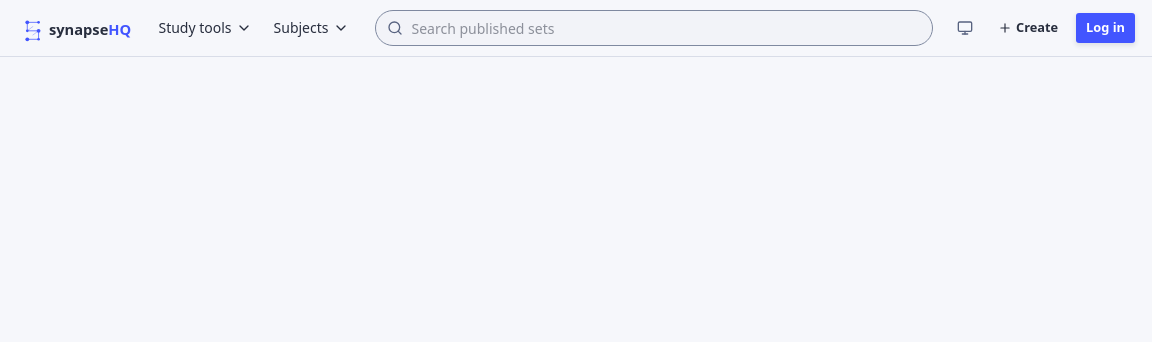
marketing header › opens Study tools and Subjects as disclosure menus and searches into Browse
This screenshot has width=1152, height=342.
Click the button "Study tools".
click(205, 28)  # box [148,10,262,46]
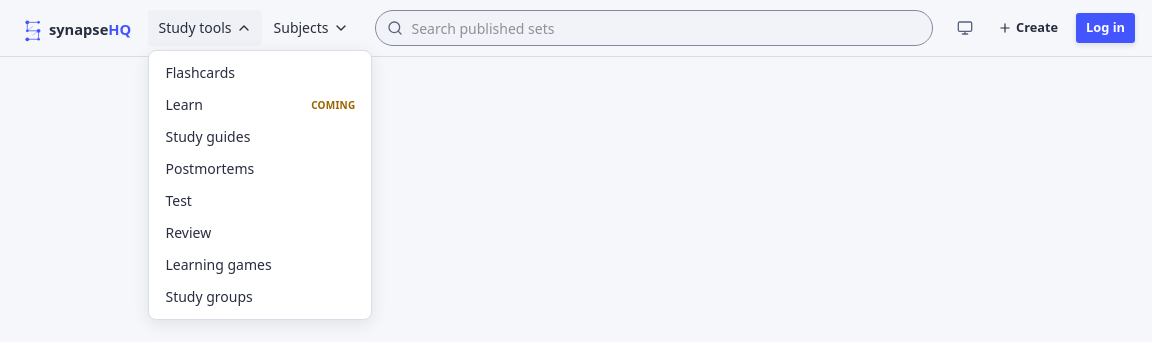
Now the button "Study tools" is expanded, box [148,10,262,46]
Press Escape
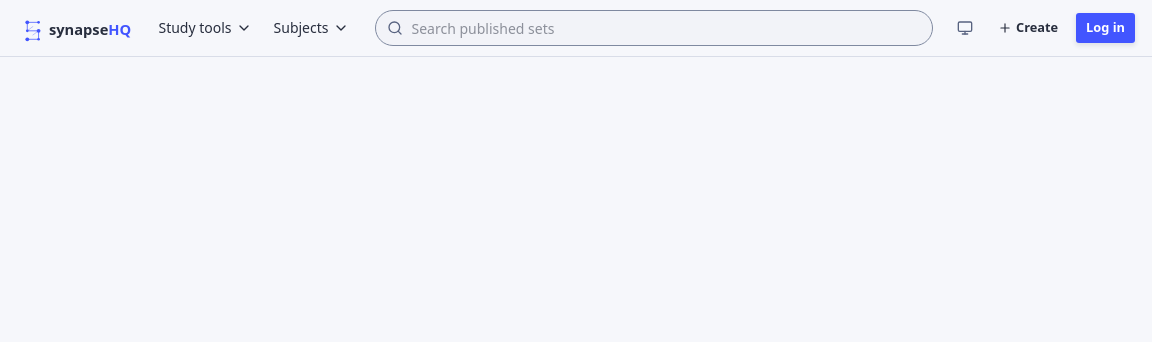
Now the button "Study tools" is collapsed, box [148,10,262,46]
